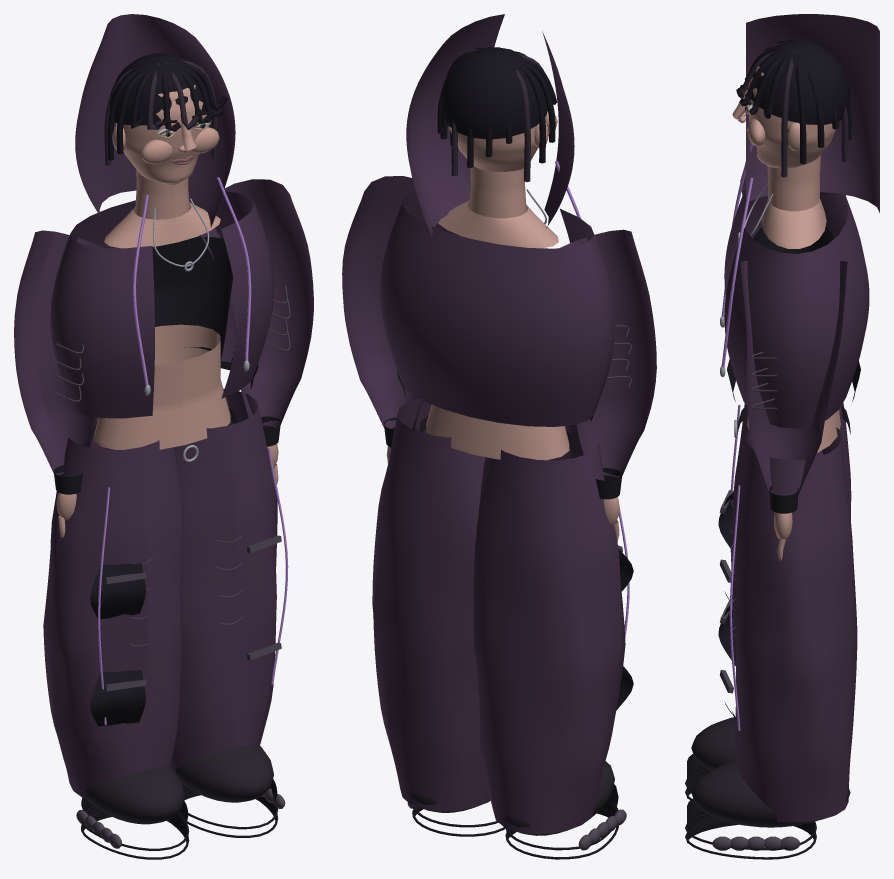
Rendered from look-8-crowd.glb.
3 views of the same model, side by side, from view 1: azimuth 30°, elevation 25°; view 2: azimuth 150°, elevation 25°; view 3: azimuth 270°, elevation 25° (orthographic). The views are drawn at different scales.
Visible parts, largest first — view 1: look-8-crowd, leg-0, leg-1, arm-1, arm-0; view 2: look-8-crowd, leg-0, leg-1, arm-0, arm-1; view 3: look-8-crowd, leg-1, arm-1, leg-0.
Part boxes in pixels (left/top/right/bottom): look-8-crowd: left=50, top=14, right=274, bottom=461; leg-0: left=43, top=417, right=189, bottom=859; leg-1: left=170, top=388, right=288, bottom=837; arm-1: left=200, top=179, right=313, bottom=484; arm-0: left=14, top=230, right=103, bottom=537; look-8-crowd: left=380, top=14, right=615, bottom=460; leg-0: left=473, top=425, right=633, bottom=859; leg-1: left=372, top=398, right=505, bottom=836; arm-0: left=560, top=229, right=656, bottom=541; arm-1: left=342, top=176, right=457, bottom=463; look-8-crowd: left=720, top=14, right=879, bottom=452; leg-1: left=685, top=427, right=857, bottom=859; arm-1: left=740, top=260, right=847, bottom=560; leg-0: left=685, top=402, right=851, bottom=800.
Bounding box in the file's own units: 0.8162 × 2.08 × 0.4647.
